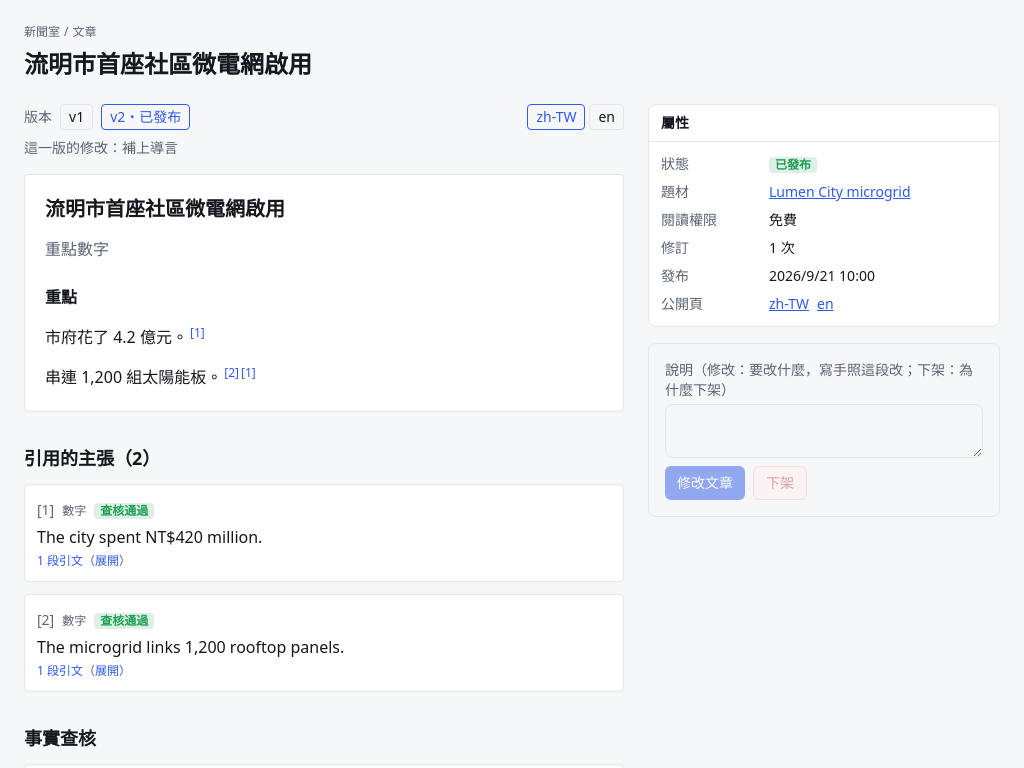
Test case: taking an article off the site (D-044) › a published article comes down only with a reason, and after asking (AD-01)
Expected: the button "下架" is disabled, [753,466,807,500]
Type "用字要改" into the text box at [824, 431], box [665,404,983,458]
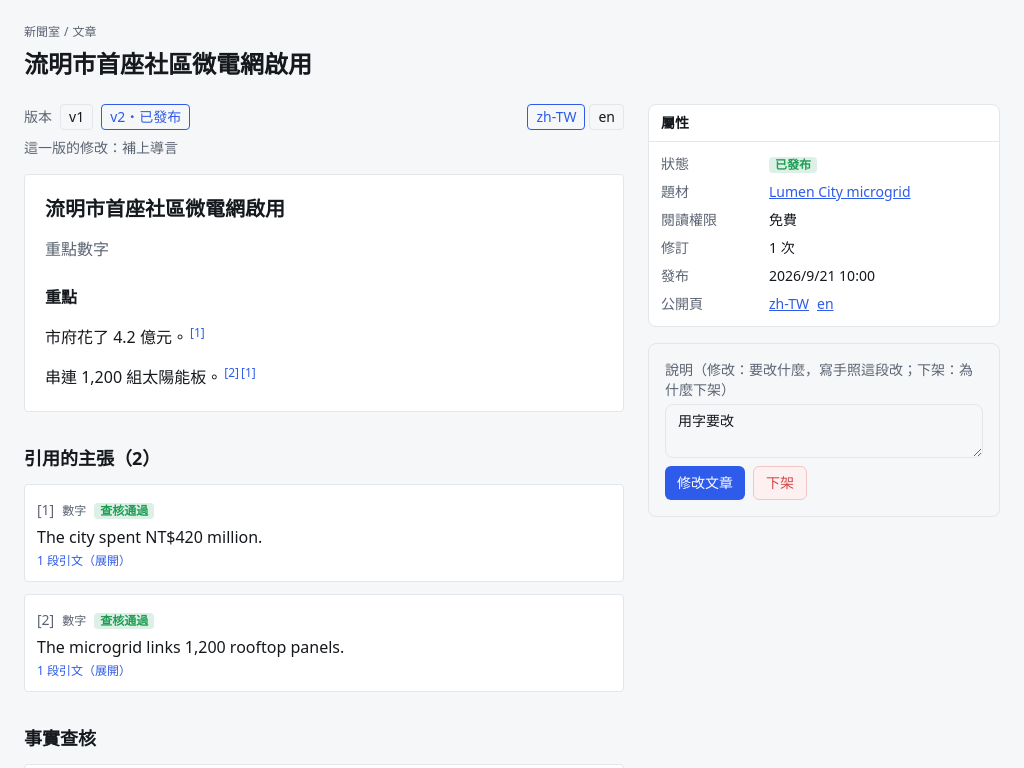
Click the button "下架" at [780, 483], box [753,466,807,500]
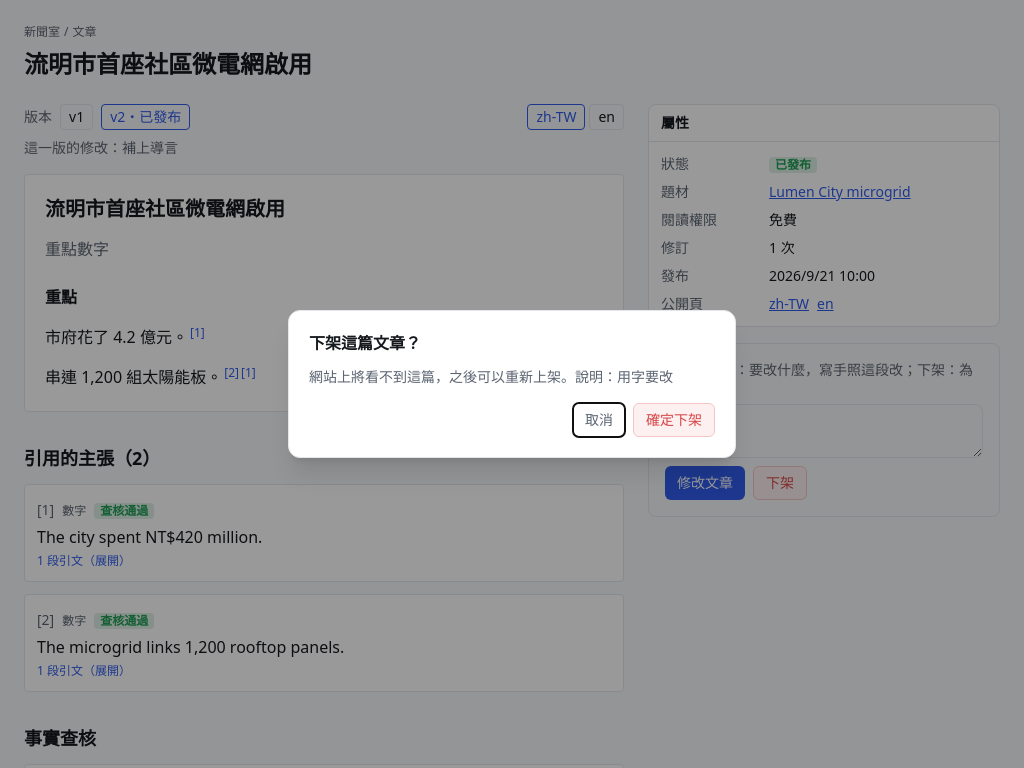
Result: the dialog "下架這篇文章？" shows "說明：用字要改" at [288,310,736,458]
Click the button "取消" at [599, 420], box [573,403,625,437]
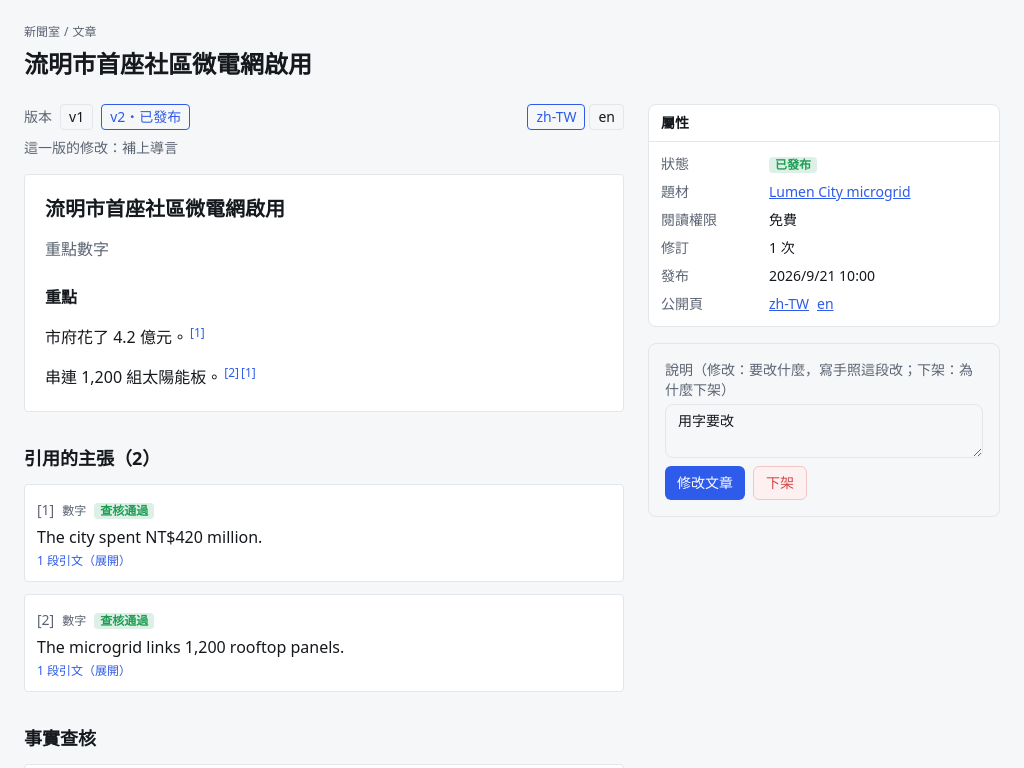
Result: the dialog is gone
Click the button "下架" at [780, 483], box [753,466,807,500]
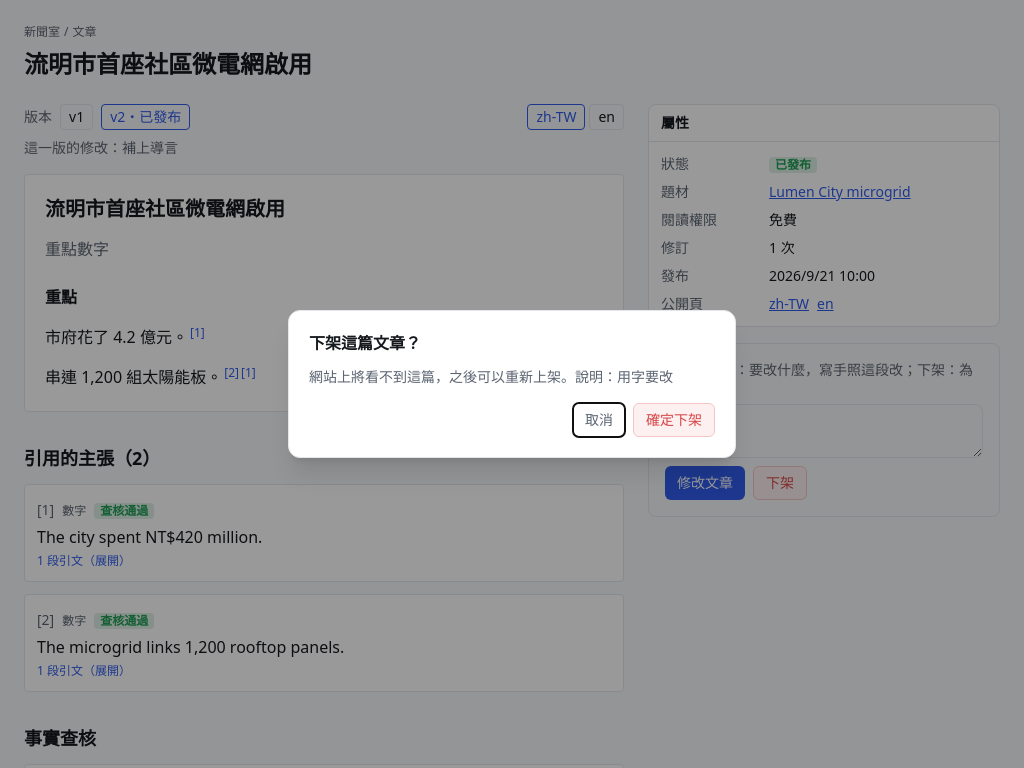
Click the button "確定下架" at [674, 420], box [633,403,715,437]
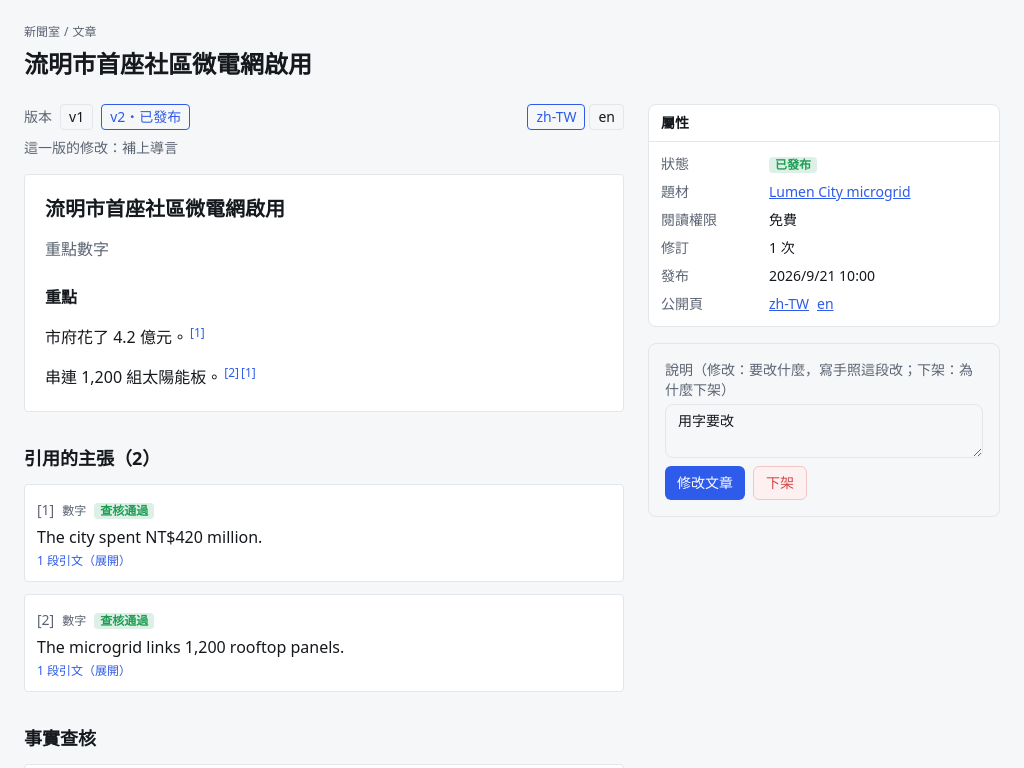
Result: the dialog is gone
